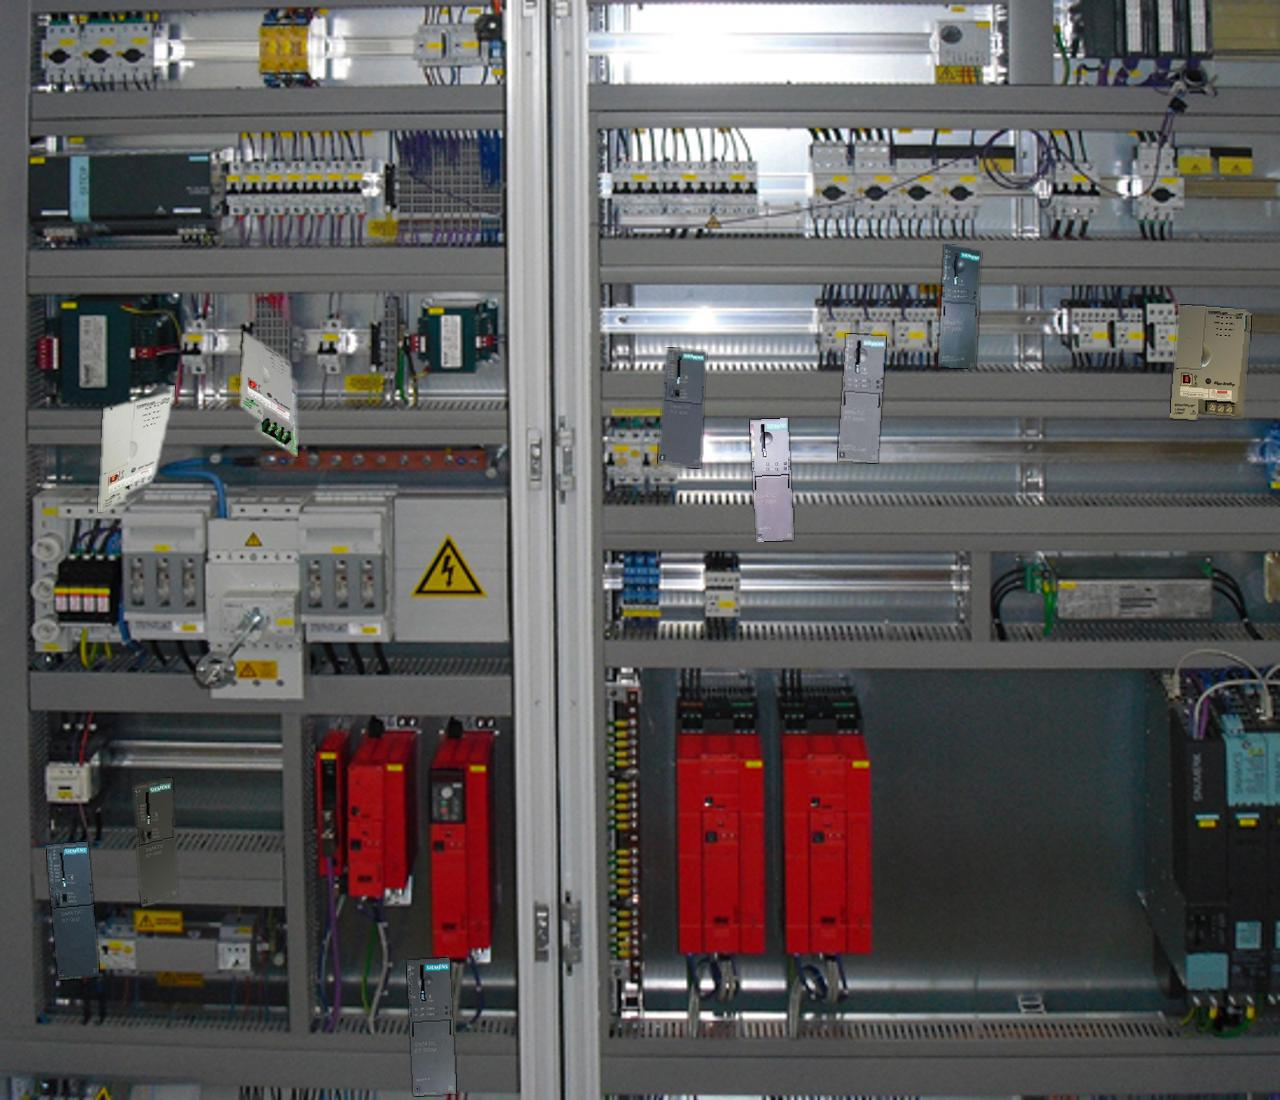AllenBradley: (99, 385, 174, 511), (1170, 305, 1251, 419), (239, 331, 297, 456)
Siemens: (46, 841, 99, 980), (133, 777, 177, 907), (659, 348, 705, 467)
